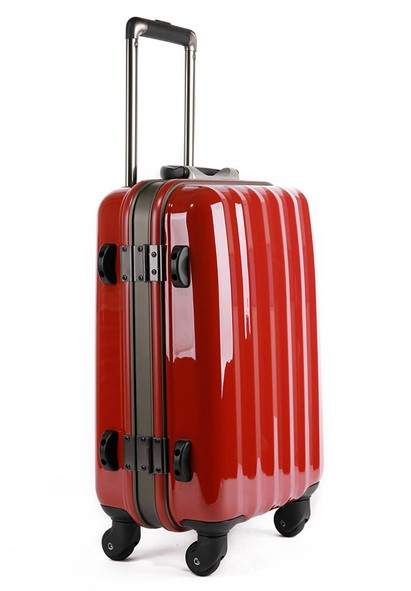suitcase: (91, 16, 324, 578)
